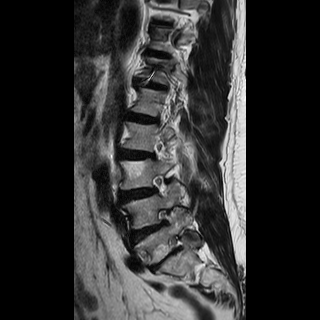LFS0: (146, 170, 175, 197)
RFS1: (154, 201, 180, 231)
